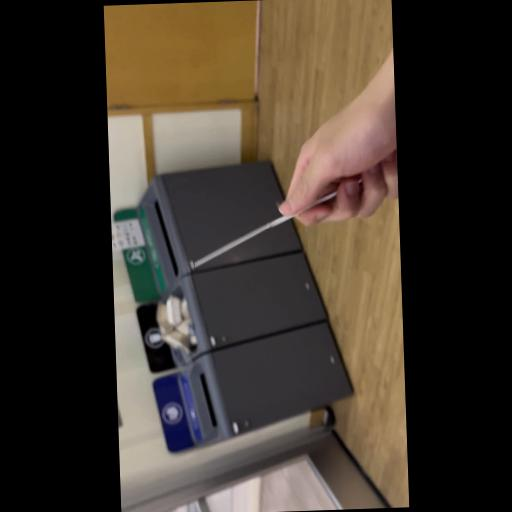utensil: (182, 166, 385, 272)
